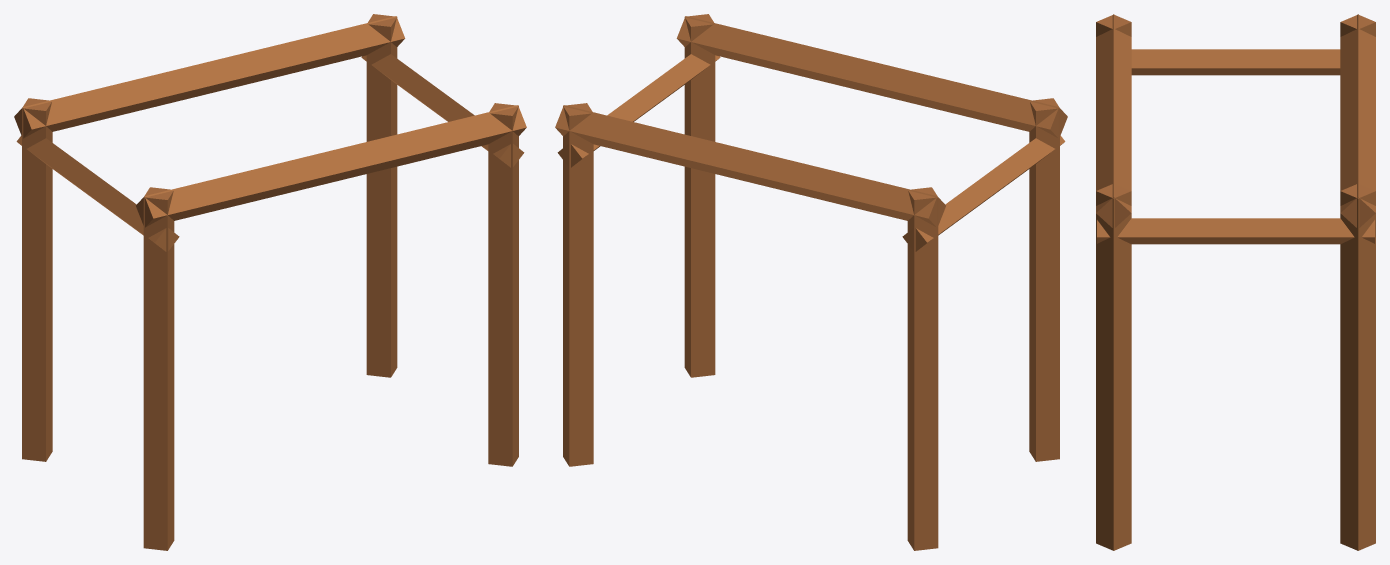
The picture shows the model from 3 angles, left to right: view 1: azimuth 30°, elevation 25°; view 2: azimuth 150°, elevation 25°; view 3: azimuth 270°, elevation 25°; orthographic projection.
Parts seen in each view (by area): view 1: root_pal_woodWarm; view 2: root_pal_woodWarm; view 3: root_pal_woodWarm.
Part boxes in pixels (bbox=[...]): root_pal_woodWarm: bbox=[14, 14, 526, 550]; root_pal_woodWarm: bbox=[555, 14, 1067, 550]; root_pal_woodWarm: bbox=[1096, 14, 1375, 550].
Bounding box in the file's own units: 3.92 × 3.51 × 2.52.
